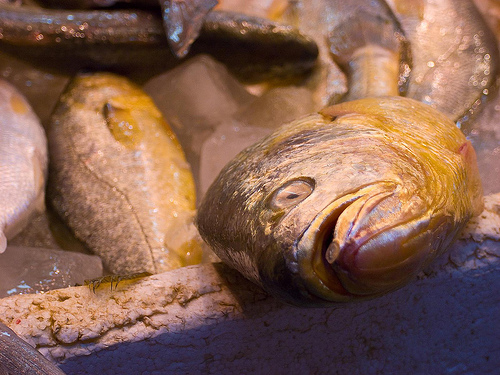fish: (194, 10, 475, 300), (40, 65, 198, 282), (398, 0, 498, 137), (0, 2, 165, 60), (0, 76, 48, 256)
